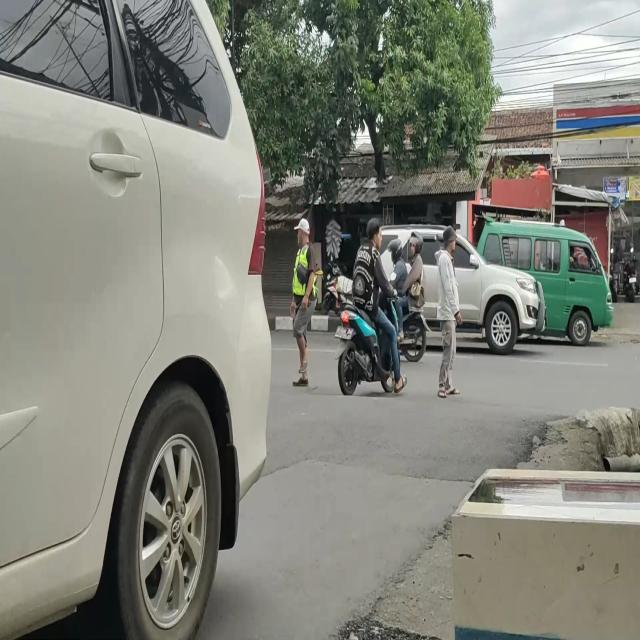helmet: (408, 232, 423, 258), (390, 241, 402, 263)
no-helmet: (367, 215, 383, 248)
